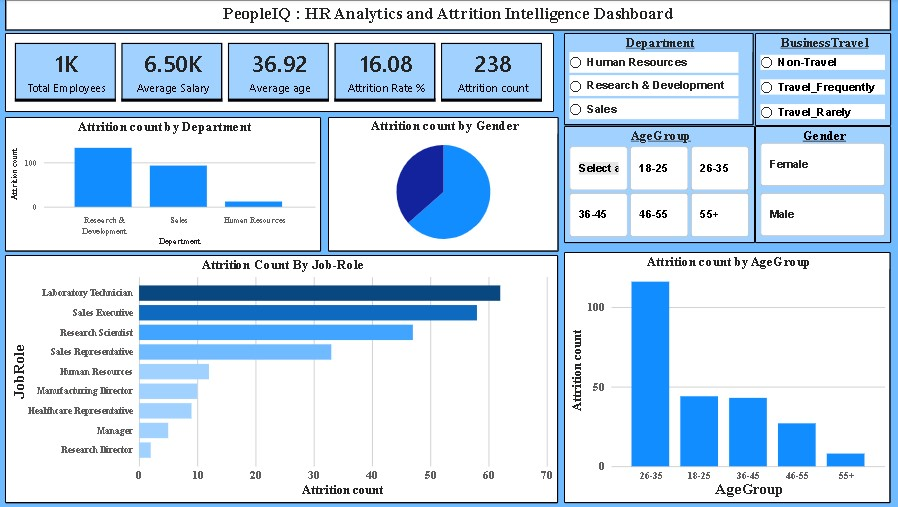

This screenshot's page, from the dashboard's own definition file:
{"tool":"powerbi","page":{"name":"Dashboard","canvas":[1280,720],"ordinal":0},"visuals":[{"type":"barChart","title":"Attrition Count By Job-Role","fields":{"Y":["all measures.Attrition count"],"Category":["HR analytics.JobRole"]},"box":[16,363,784,352],"z":0},{"type":"cardVisual","fields":{"Data":["all measures.Total Employees","all measures.Average Salary","all measures.Average age","all measures.Attrition Rate %","all measures.Attrition count"]},"box":[15.6,48.2,778.1,112],"z":1000},{"type":"textbox","box":[15.6,0,1255.7,45.4],"z":2000},{"type":"listSlicer","fields":{"Values":["HR analytics.Department"]},"box":[808.6,48.6,268.6,131.4],"z":3000},{"type":"advancedSlicerVisual","fields":{"Values":["HR analytics.Gender"]},"box":[1078.6,180,192.8,165.8],"z":4000},{"type":"advancedSlicerVisual","fields":{"Values":["HR analytics.AgeGroup"]},"box":[807.9,180,270.7,165.8],"z":5000},{"type":"listSlicer","fields":{"Values":["HR analytics.BusinessTravel"]},"box":[1078.6,48.2,192.8,131.8],"z":6000},{"type":"columnChart","fields":{"Category":["HR analytics.AgeGroup"],"Y":["all measures.Attrition count"]},"box":[807.9,358.6,463.5,355.7],"z":9000},{"type":"columnChart","fields":{"Category":["HR analytics.Department"],"Y":["all measures.Attrition count"]},"box":[15.6,167.2,447.9,191.3],"z":10000},{"type":"pieChart","fields":{"Category":["HR analytics.Gender"],"Y":["all measures.Attrition count"]},"box":[472.9,167.1,327.1,191.4],"z":11000}]}

Visuals, with their boxes in screenshot pixels (x1, y1, x2, y2), scaled from the page's 1280x720 canvas onto the 898x507 screenshot:
"Attrition Count By Job-Role" barChart: [11, 256, 561, 503]
cardVisual - all measures.Total Employees x all measures.Average Salary: [11, 34, 557, 113]
textbox: [11, 0, 892, 32]
listSlicer - HR analytics.Department: [567, 34, 756, 127]
advancedSlicerVisual - HR analytics.Gender: [757, 127, 892, 244]
advancedSlicerVisual - HR analytics.AgeGroup: [567, 127, 757, 244]
listSlicer - HR analytics.BusinessTravel: [757, 34, 892, 127]
columnChart - HR analytics.AgeGroup x all measures.Attrition count: [567, 253, 892, 503]
columnChart - HR analytics.Department x all measures.Attrition count: [11, 118, 325, 252]
pieChart - HR analytics.Gender x all measures.Attrition count: [332, 118, 561, 252]
